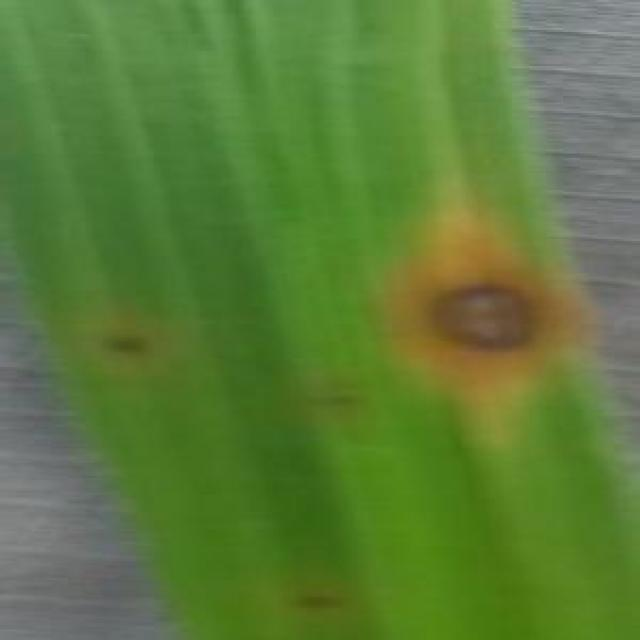brownspots: (435, 273, 538, 363), (94, 322, 168, 371)
